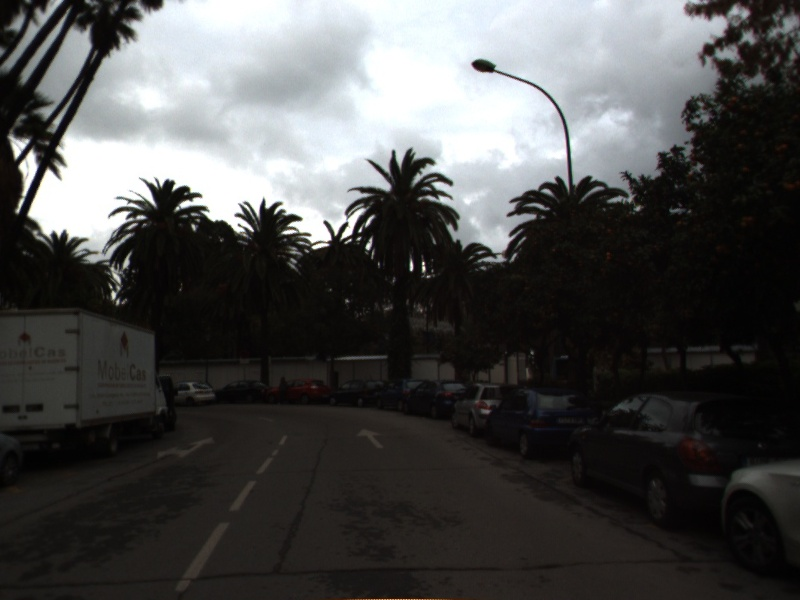STRAIGHT: (354, 426, 387, 450)
STRAIGHT_LEFT: (154, 435, 219, 463)
